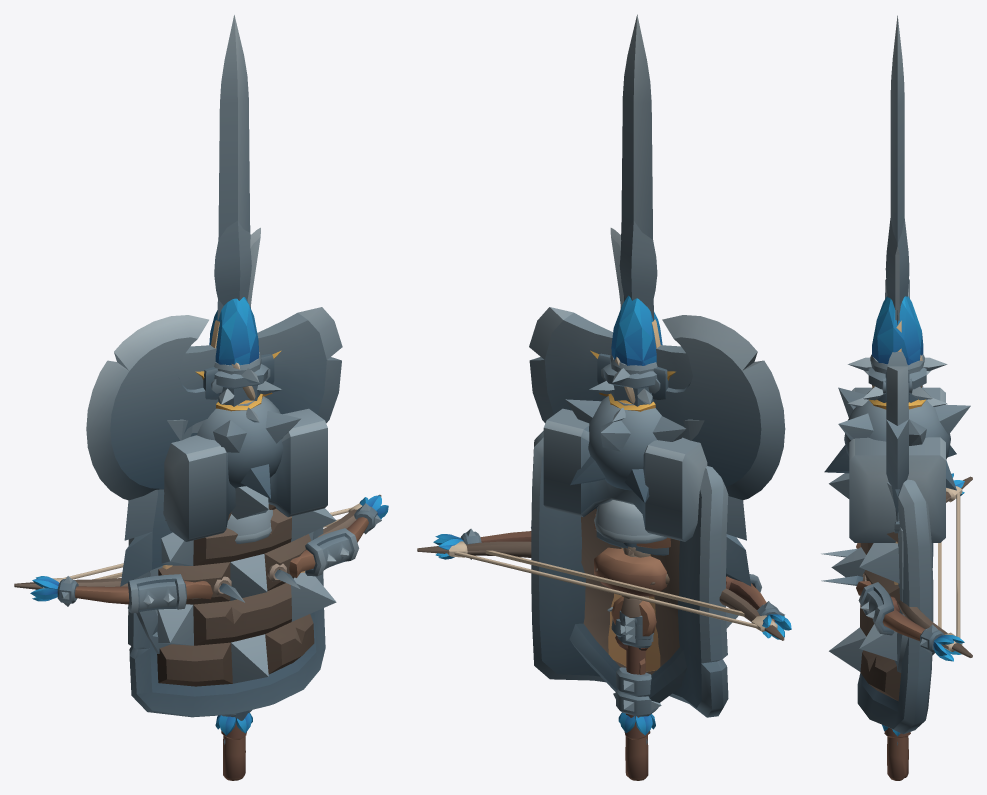
File: kk-weapons.glb
3 views of the same model, side by side, from view 1: azimuth 30°, elevation 25°; view 2: azimuth 150°, elevation 25°; view 3: azimuth 270°, elevation 25° (orthographic).
Parts seen in each view (by area): view 1: shield_C, halberd, hammer_A, axe_B, bow_B_withString, sword_E, hammer_B, axe_C, staff_B, spear_A, bow_A_withString, hammer_C (+3 smaller); view 2: shield_C, halberd, hammer_A, axe_B, shield_B, hammer_B, sword_E, spear_A, bow_B_withString, bow_A_withString, staff_B, axe_C (+5 smaller); view 3: shield_C, hammer_A, hammer_B, bow_B_withString, axe_B, staff_B, sword_E, bow_A_withString, spear_A, hammer_C, staff_A, halberd (+2 smaller).
Part boxes in pixels (<box>): shield_C: <box>128,486,336,717</box>; halberd: <box>86,315,268,500</box>; hammer_A: <box>163,408,327,541</box>; axe_B: <box>178,307,342,436</box>; bow_B_withString: <box>30,495,388,613</box>; sword_E: <box>217,15,250,321</box>; hammer_B: <box>197,396,300,499</box>; axe_C: <box>120,419,204,586</box>; staff_B: <box>195,297,281,739</box>; spear_A: <box>214,220,252,744</box>; bow_A_withString: <box>14,494,381,589</box>; hammer_C: <box>214,352,282,422</box>; shield_C: <box>531,431,738,717</box>; halberd: <box>603,315,785,696</box>; hammer_A: <box>543,408,707,598</box>; axe_B: <box>529,307,692,650</box>; shield_B: <box>569,508,727,702</box>; hammer_B: <box>565,396,686,649</box>; sword_E: <box>596,14,653,509</box>; spear_A: <box>613,221,661,744</box>; bow_B_withString: <box>433,527,791,639</box>; bow_A_withString: <box>417,541,784,640</box>; staff_B: <box>590,295,675,739</box>; axe_C: <box>611,419,751,650</box>; shield_C: <box>829,473,933,734</box>; hammer_A: <box>849,387,945,542</box>; hammer_B: <box>824,385,970,490</box>; bow_B_withString: <box>821,473,964,661</box>; axe_B: <box>872,351,922,513</box>; staff_B: <box>869,296,925,737</box>; sword_E: <box>890,15,904,533</box>; bow_A_withString: <box>898,476,972,657</box>; spear_A: <box>882,218,909,745</box>; hammer_C: <box>848,354,947,407</box>; staff_A: <box>887,736,908,780</box>; halberd: <box>868,279,926,402</box>.
Size of the model in its own units: 1.96 by 3.9 by 0.7072.
1 material, 1 textured.
